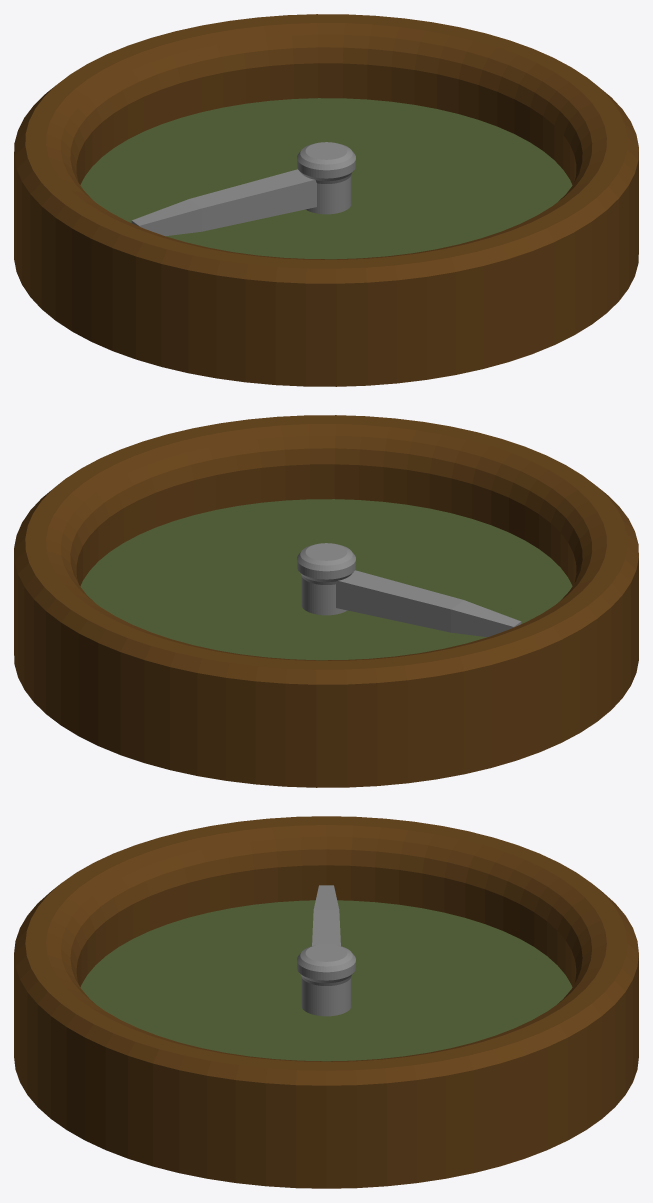
File: Compass.fbx
The picture shows the model from 3 angles, top to bottom: view 1: azimuth 30°, elevation 25°; view 2: azimuth 150°, elevation 25°; view 3: azimuth 270°, elevation 25°; orthographic projection.
Visible parts, largest first — view 1: compass_base, Cube.004; view 2: compass_base, Cube.004; view 3: compass_base, Cube.004.
Part boxes in pixels (x1,y1,x2,y2): compass_base: (14,14,638,386); Cube.004: (131,169,316,236); compass_base: (14,415,638,787); Cube.004: (336,570,521,637); compass_base: (14,816,638,1188); Cube.004: (312,885,340,945).
Size of the model in its own units: 200 by 40 by 200.
